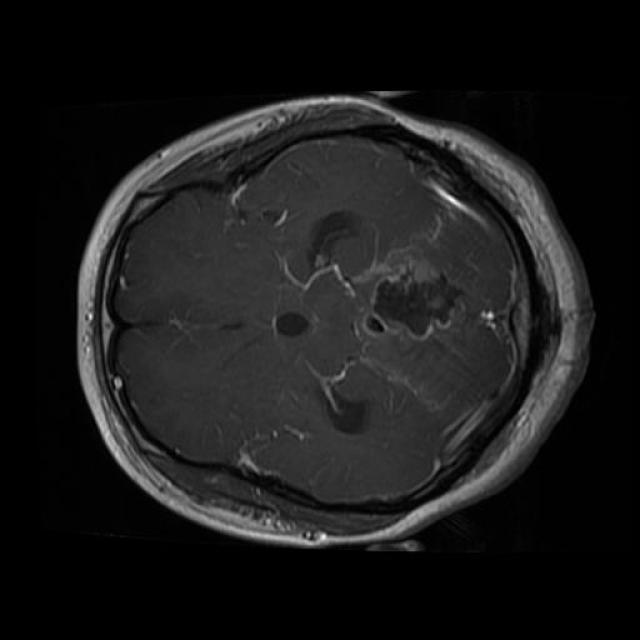Glioma: (364, 254, 468, 341), (476, 310, 496, 333)
